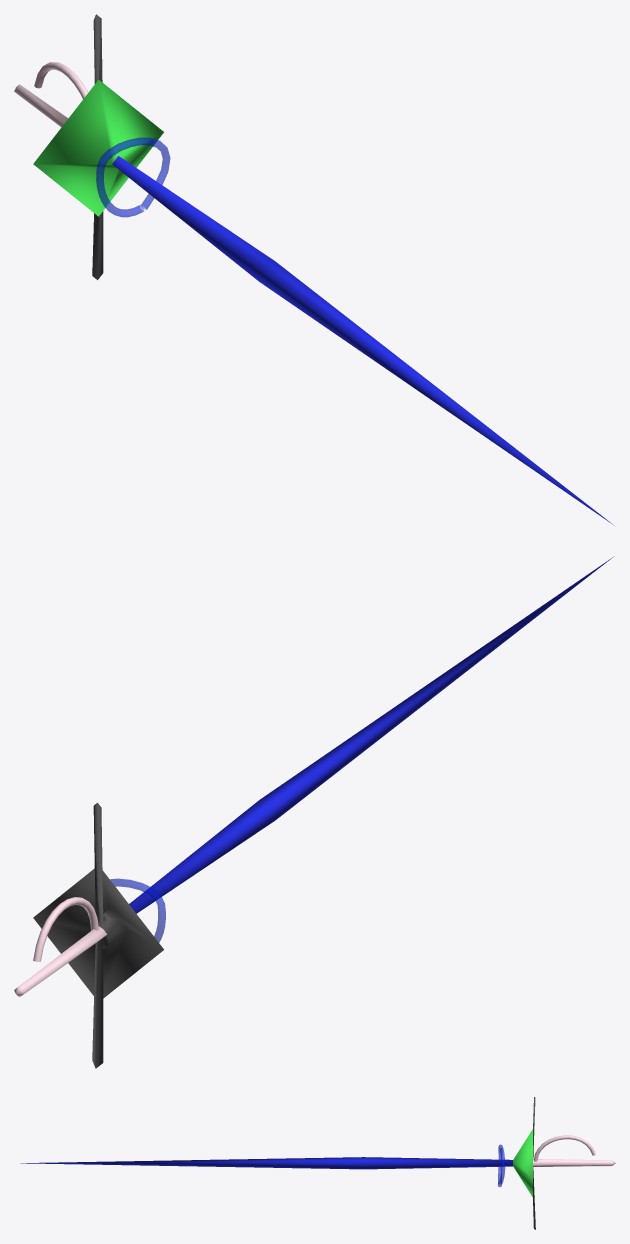
Rendered from レイピア.fbx.
The picture shows the model from 3 angles, top to bottom: view 1: azimuth 30°, elevation 25°; view 2: azimuth 150°, elevation 25°; view 3: azimuth 270°, elevation 25°; orthographic projection. The views are drawn at different scales.
Visible parts, largest first — view 1: 平面; view 2: 平面; view 3: 平面.
Part boxes in pixels (x1,y1,x2,y2): 平面: (14, 14, 612, 524); 平面: (14, 556, 614, 1068); 平面: (20, 1097, 615, 1229).
Bounding box in the file's own units: 384 × 741 × 3043.
